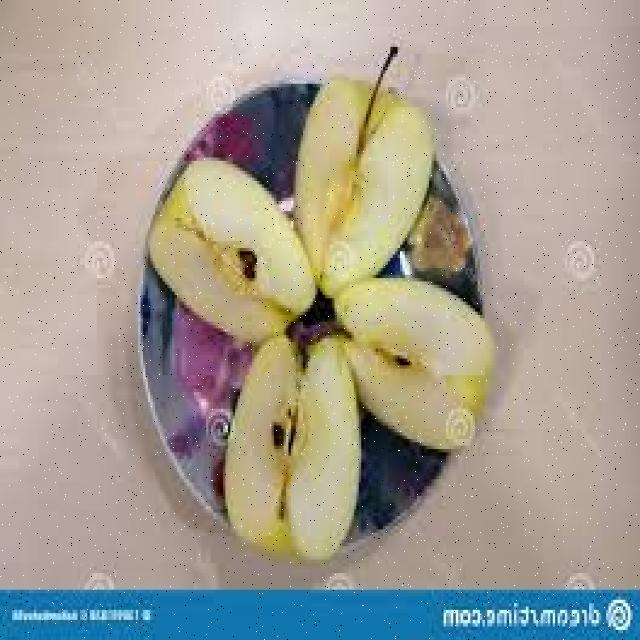Apple: (140, 144, 311, 338), (290, 77, 432, 304), (225, 329, 348, 558), (335, 279, 495, 434)
